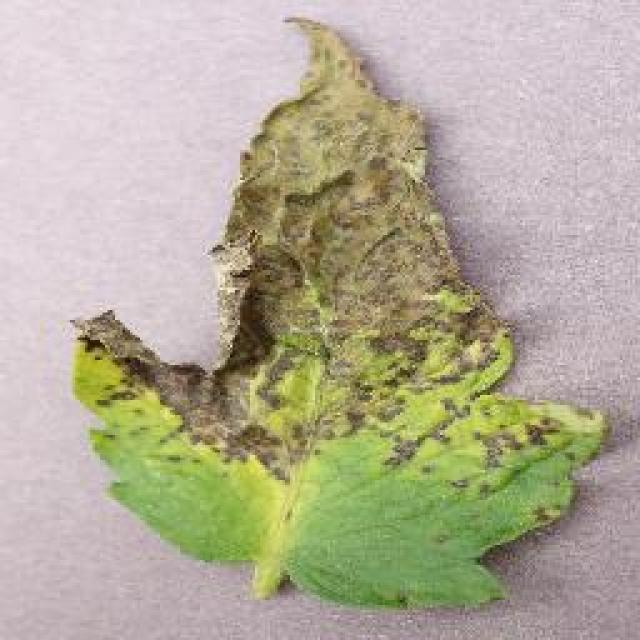Tomato___Septoria_leaf_spot: (75, 20, 605, 602)
